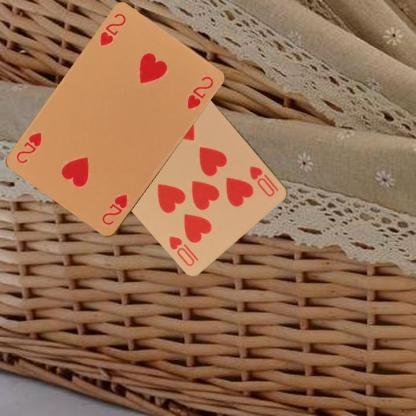10h: (247, 163, 280, 198)
2h: (96, 11, 128, 49), (99, 192, 129, 227)
